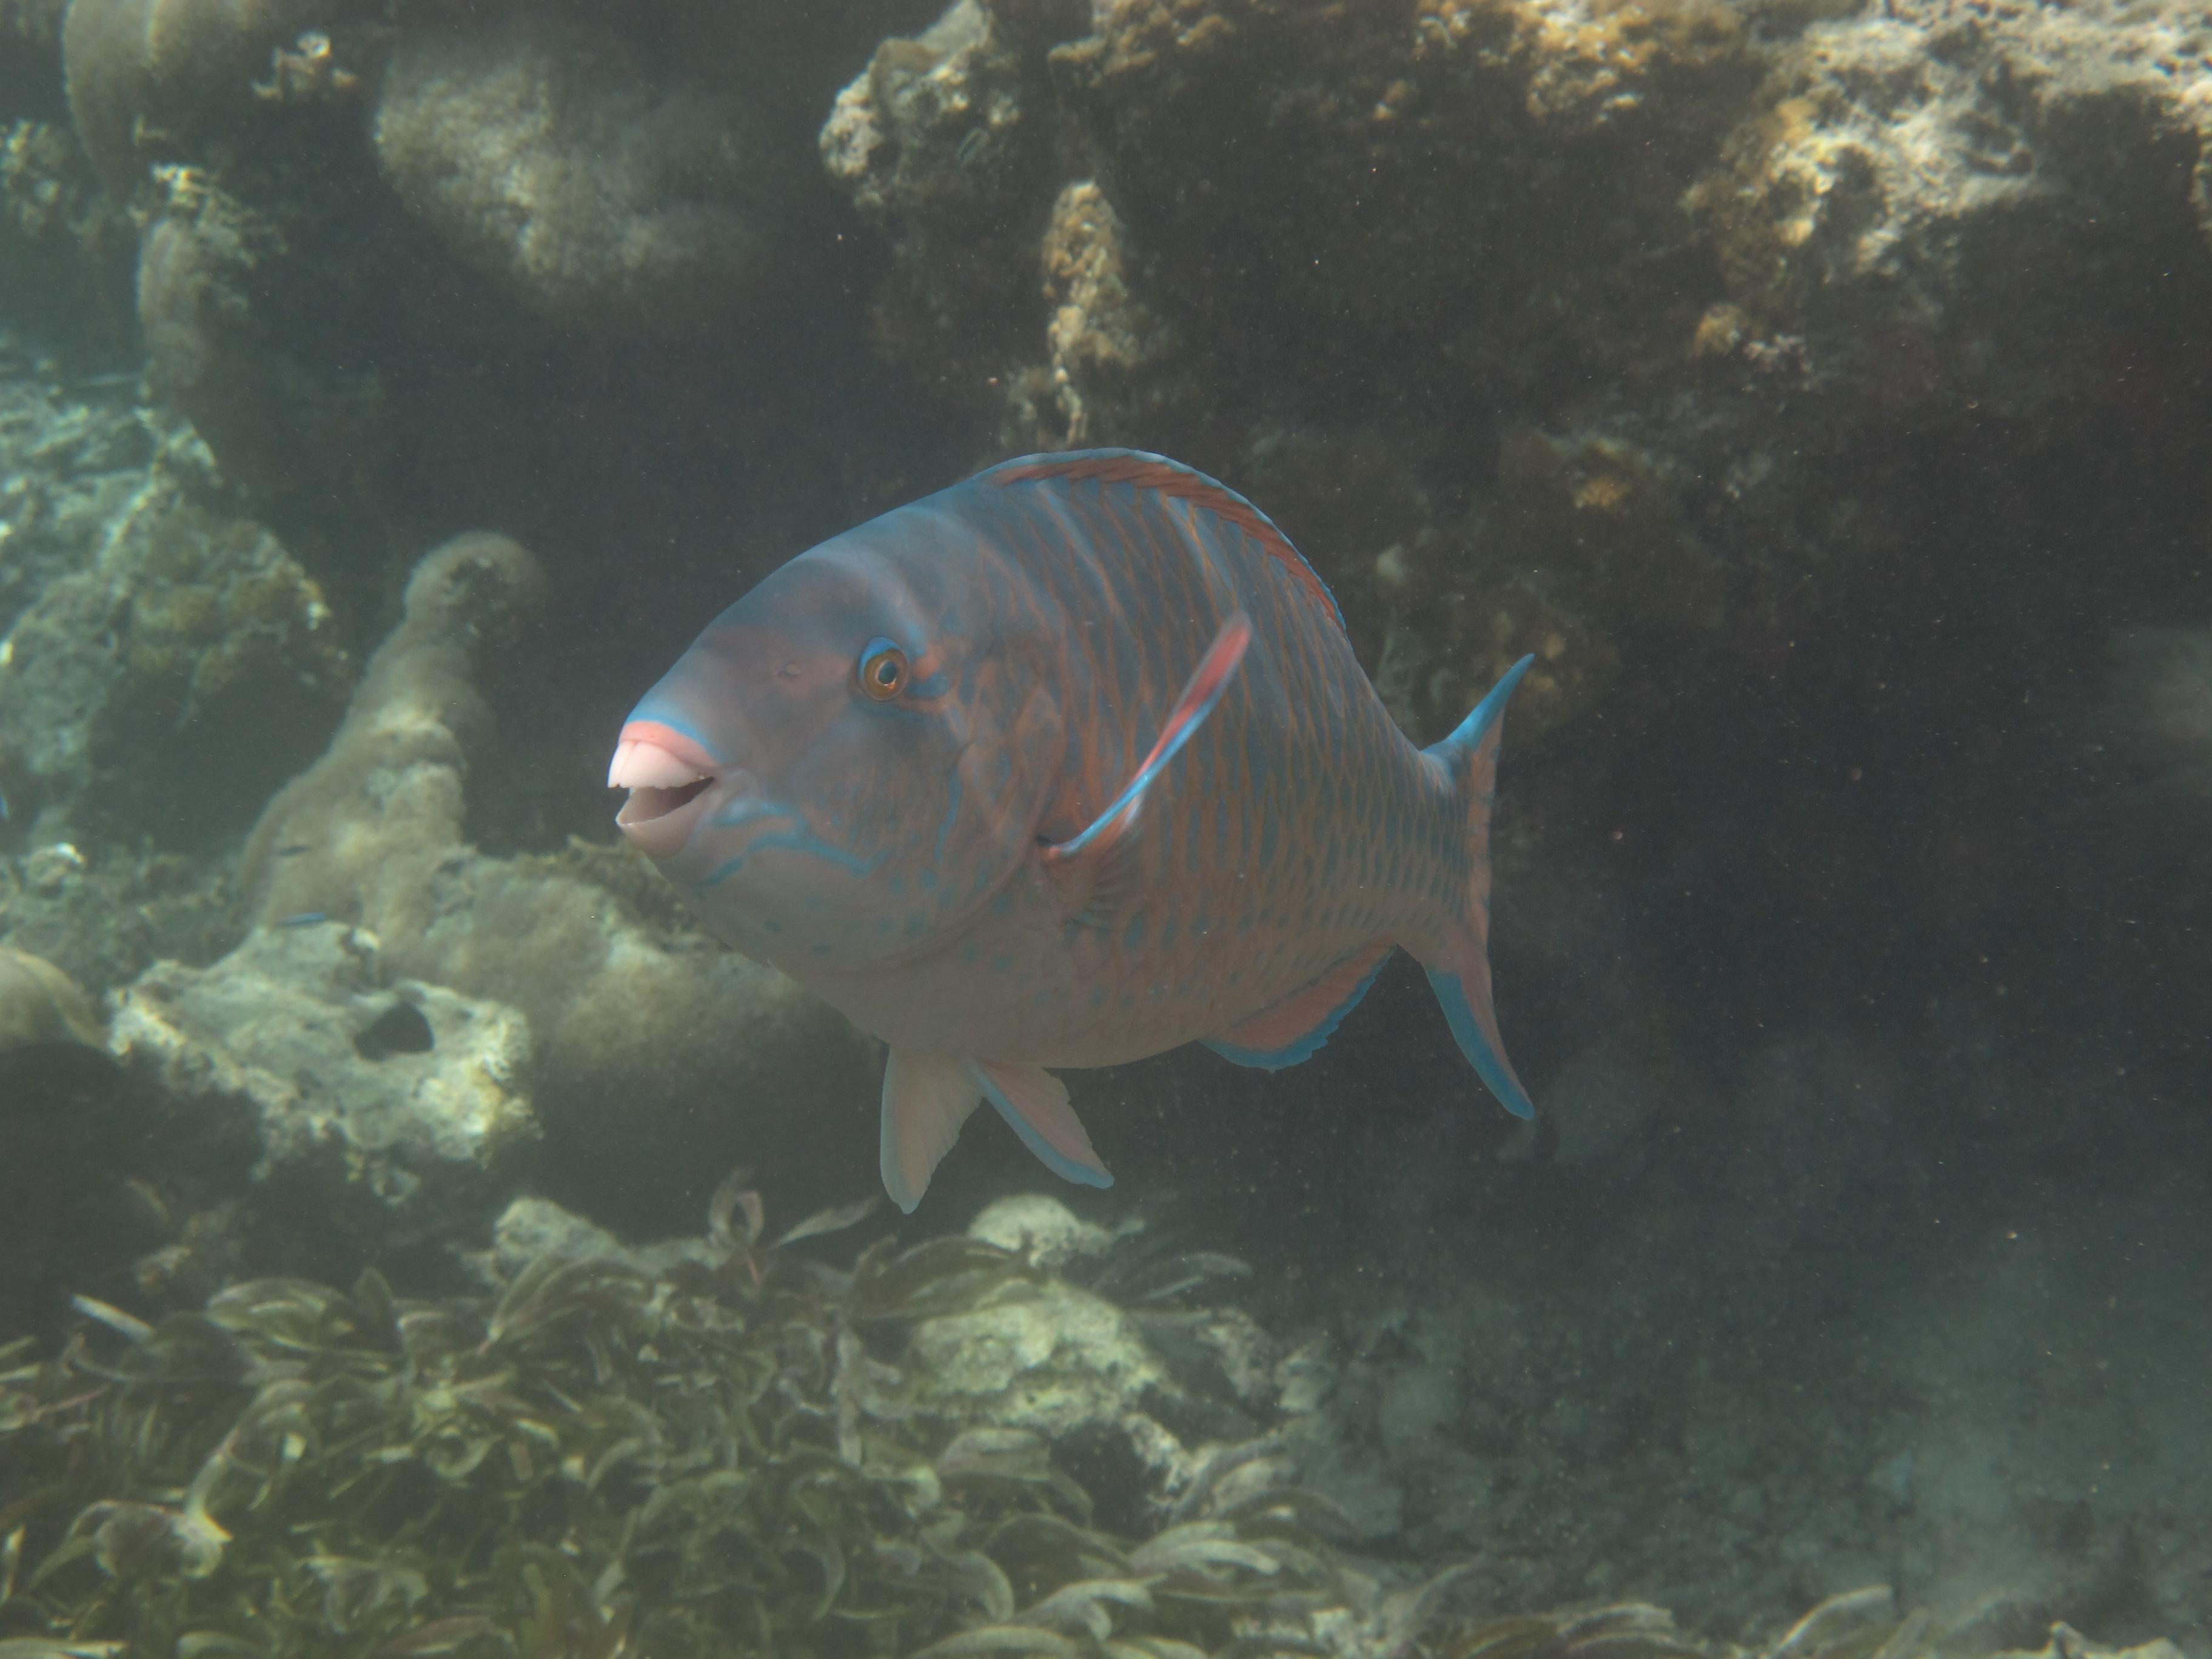Chlorurus sordidus: (432, 340, 1700, 1378)
